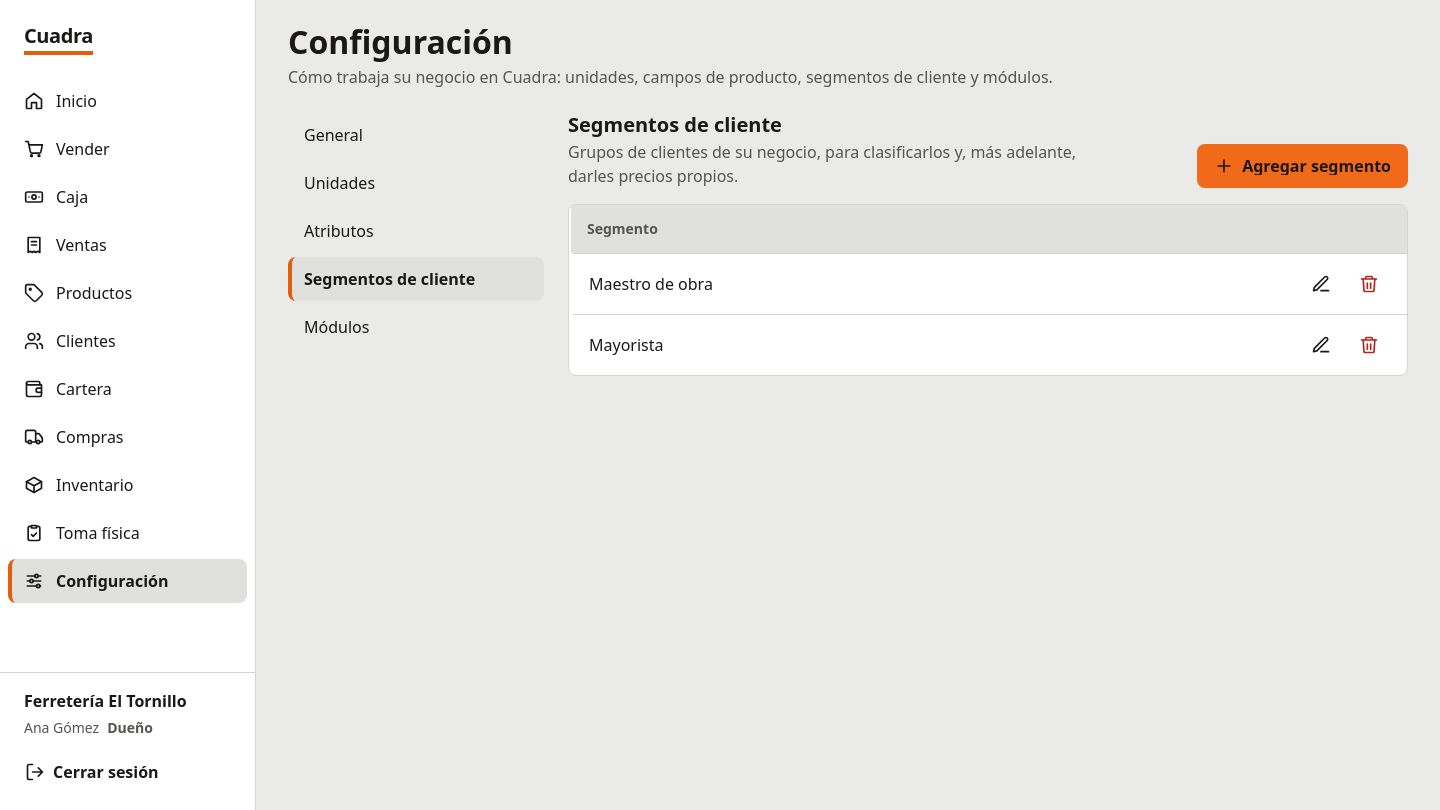
CustomerSegmentsSettings › no borra un segmento con clientes y lo dice
The image size is (1440, 810).
Click the button named "Borrar Maestro de obra" at point(1369, 284), box [1347, 262, 1391, 306]
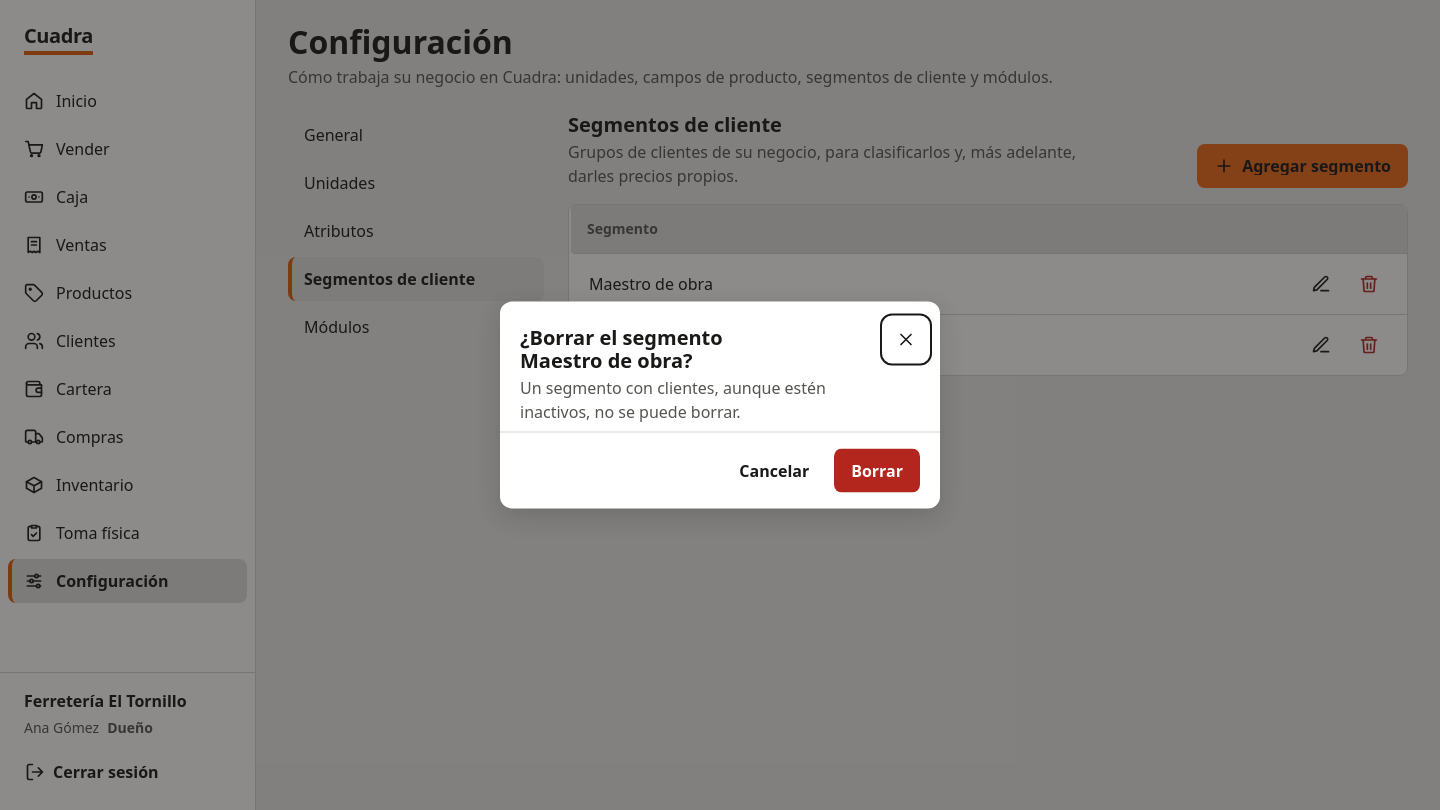
Click the button "Borrar" at point(877, 470), box [834, 448, 920, 492]
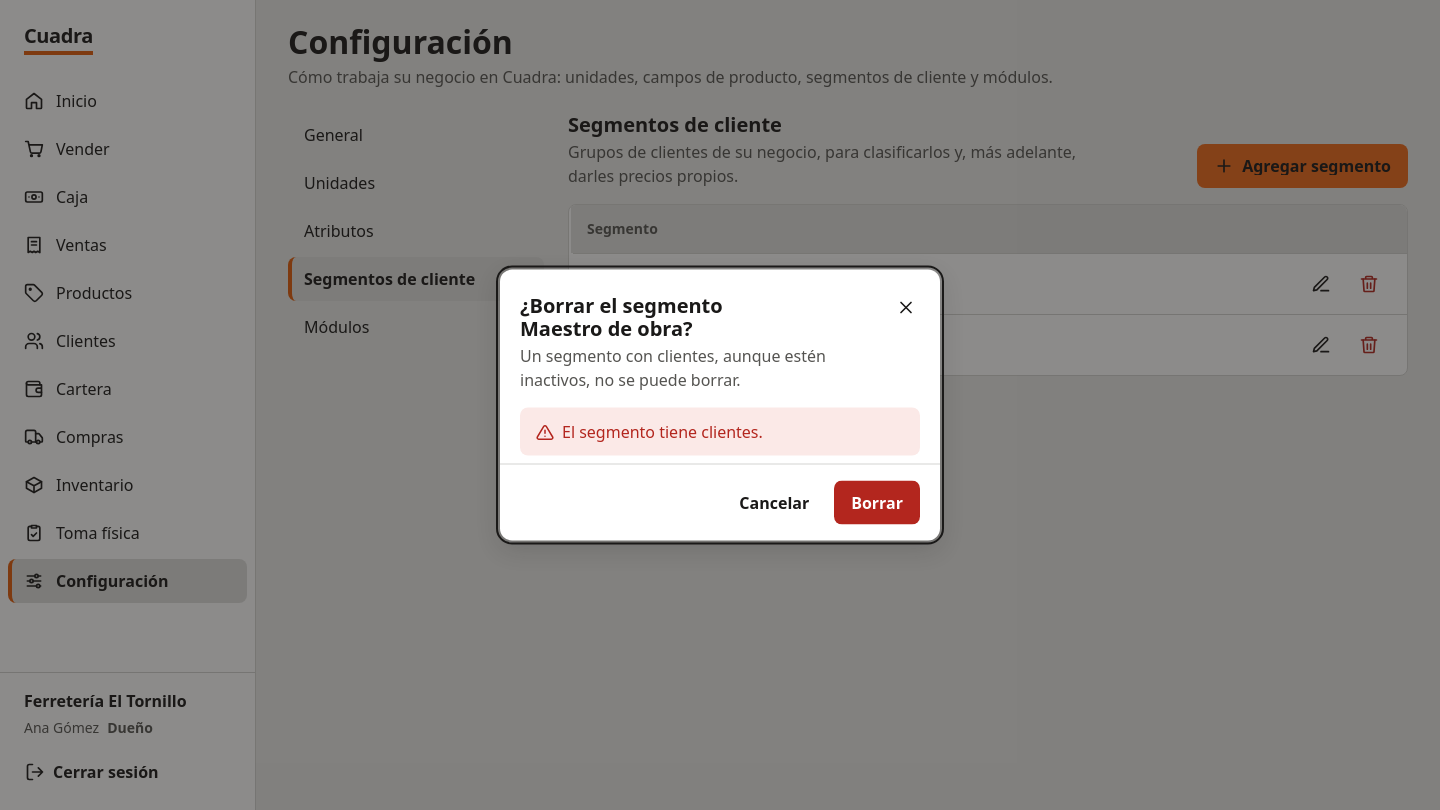
Check: the text "El segmento tiene clientes." is shown, box [562, 420, 763, 444]
